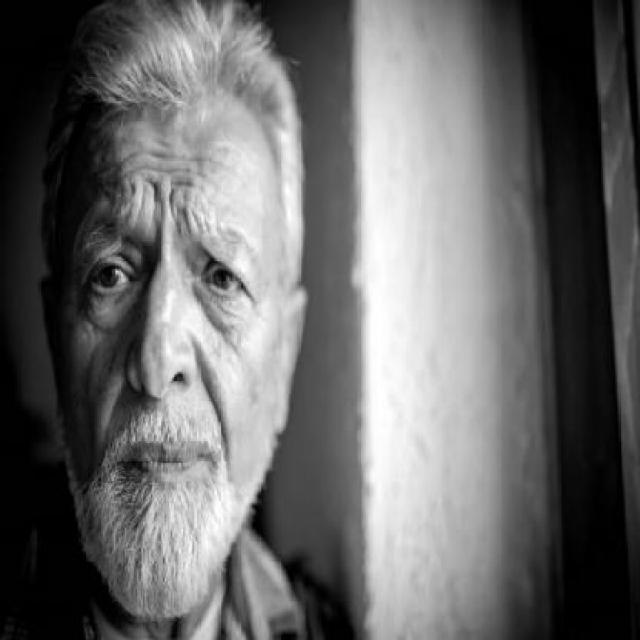sad: (75, 215, 263, 480)
